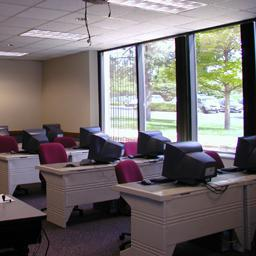Ventana: (100, 47, 245, 152)
